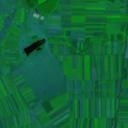alloviz: (23, 37, 46, 56)
